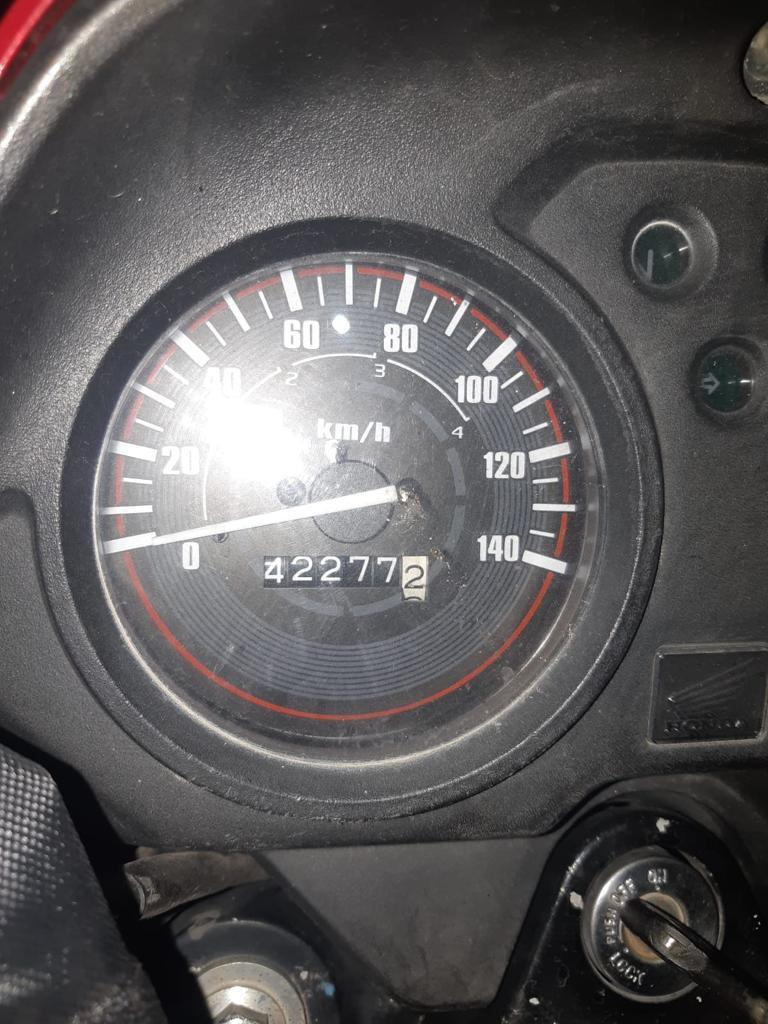2: (290, 555, 313, 581), (320, 555, 341, 581), (403, 564, 424, 589)
4: (264, 556, 284, 583)
7: (376, 556, 397, 582), (349, 555, 369, 581)
odometer: (260, 553, 431, 603)
